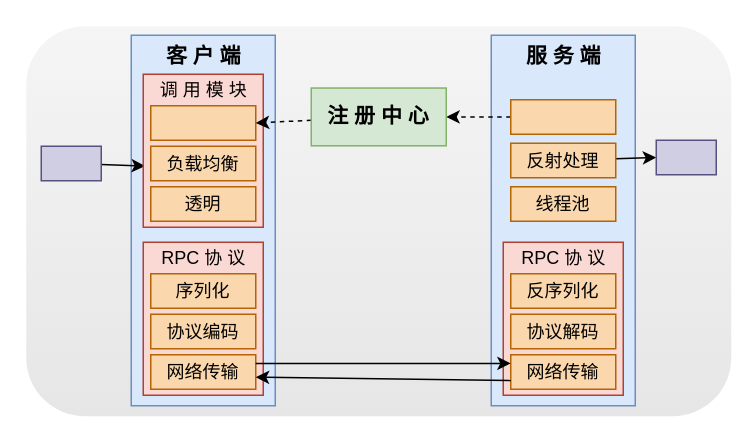
Some shapes in this 756 by 441 pixel diagram are drawn without their labels. The centre of each missing label's shape, as x and y in pixels:
"Client" goes at (x=70, y=163).
"Server" goes at (x=685, y=157).
"服务发现" goes at (x=202, y=122).
"服务注册" goes at (x=562, y=116).
